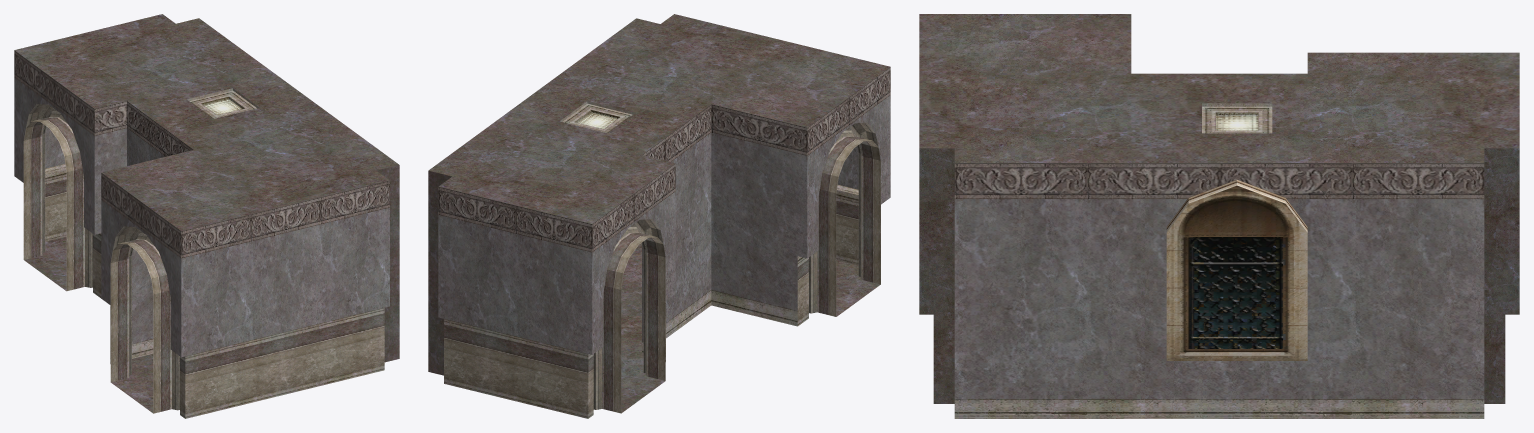
File: ply_nboo_capitol_s01_r2_hall2_mesh_r2.fbx
3 renders of one model, left to right at view 1: azimuth 30°, elevation 25°; view 2: azimuth 150°, elevation 25°; view 3: azimuth 270°, elevation 25°, orthographic. The views are drawn at different scales.
Visible parts, largest first — view 1: mesh_node; view 2: mesh_node; view 3: mesh_node.
Part boxes in pixels (x1,y1,x2,y2): mesh_node: (14,14,399,418); mesh_node: (428,14,890,418); mesh_node: (919,14,1519,418).
Size of the model in its own units: 5.4 by 4 by 8.5.
